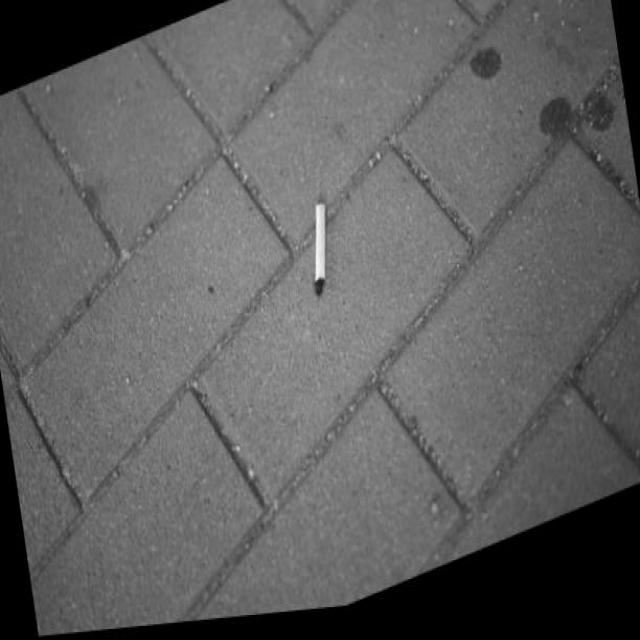cigarette: (300, 200, 342, 310)
